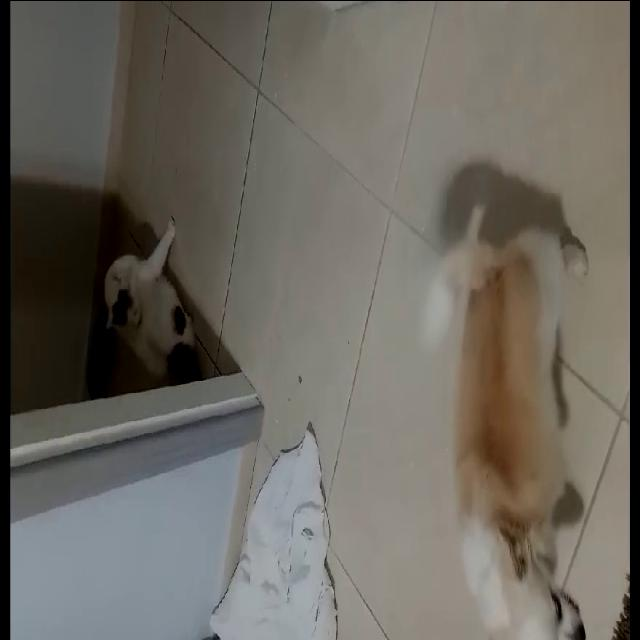Simba: (86, 208, 223, 376)
Theo: (434, 215, 629, 640)
